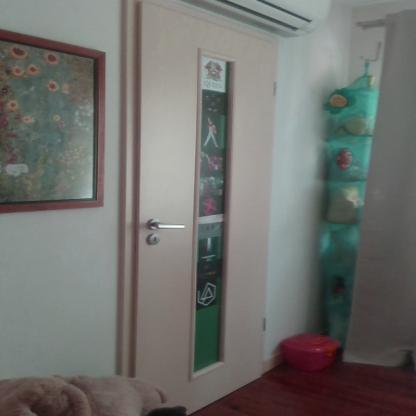door: (137, 2, 271, 415)
hinged: (271, 79, 278, 97), (261, 316, 266, 334)
lever: (151, 222, 189, 231)
